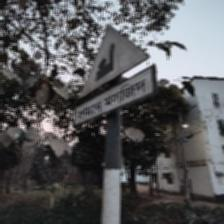Mosque in front: (72, 24, 156, 131)
